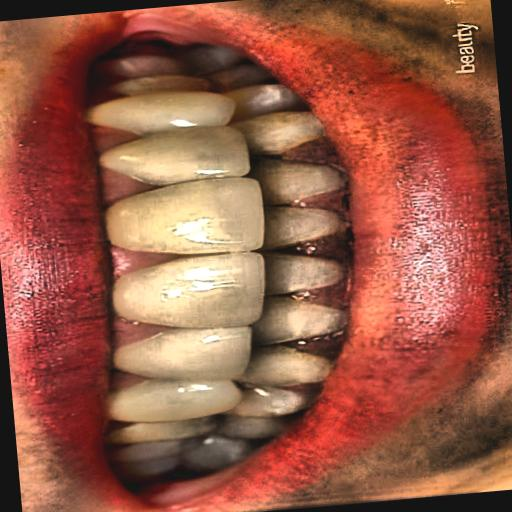Healthy: (49, 31, 426, 512)
